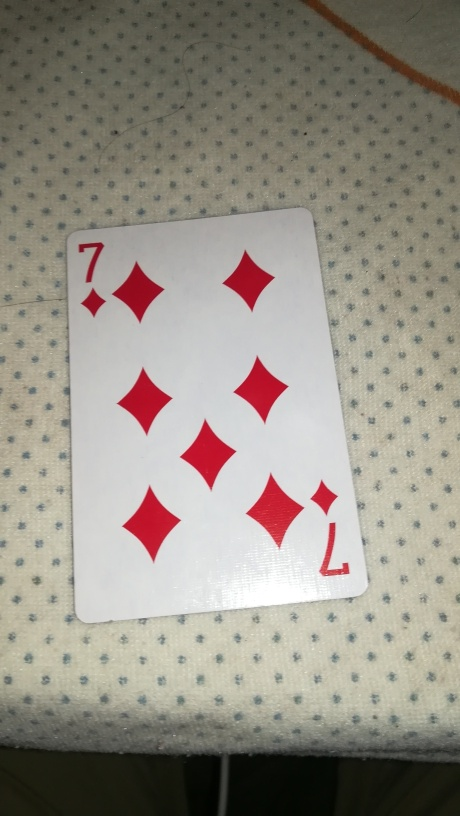fk 7: (63, 205, 371, 625)
